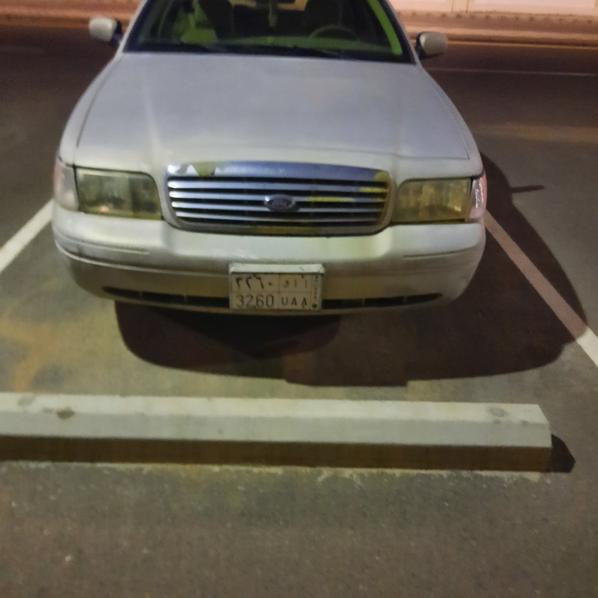numberplate: (232, 273, 321, 310)
